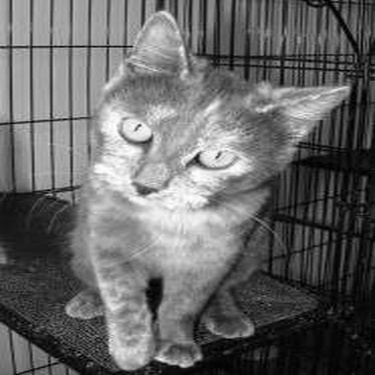cat: (46, 12, 351, 357)
